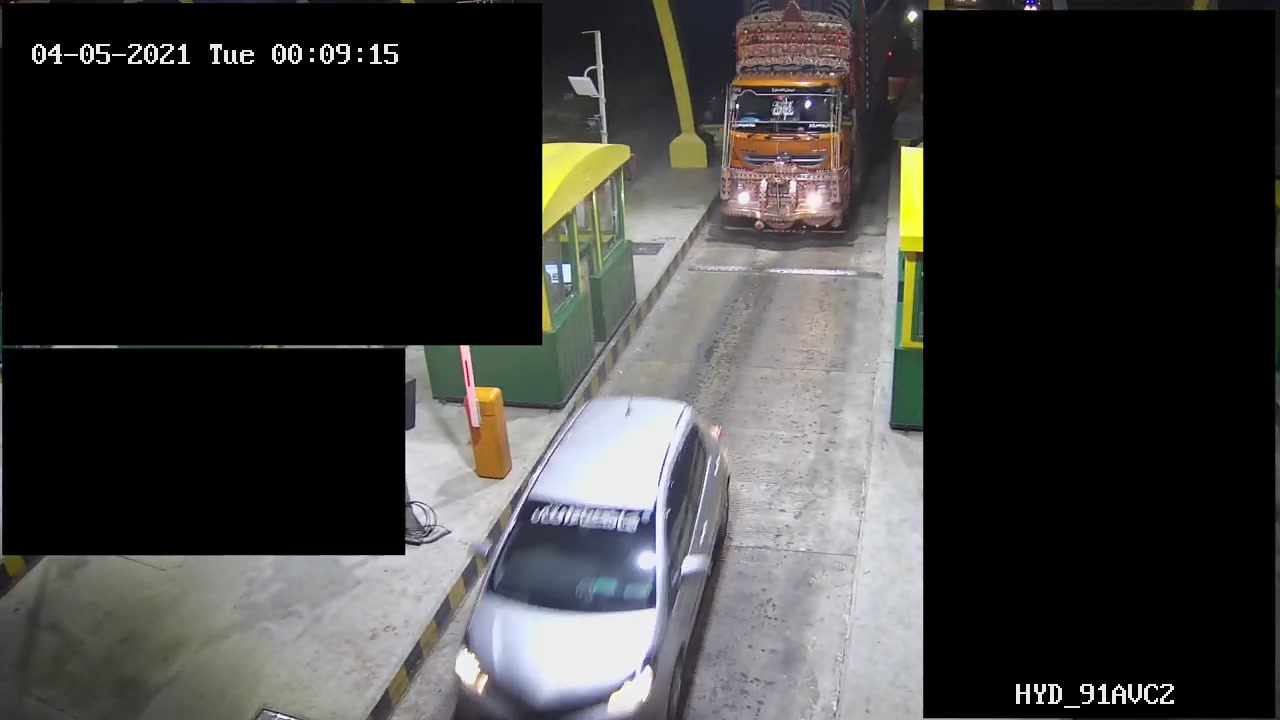F6: (720, 1, 868, 237)
